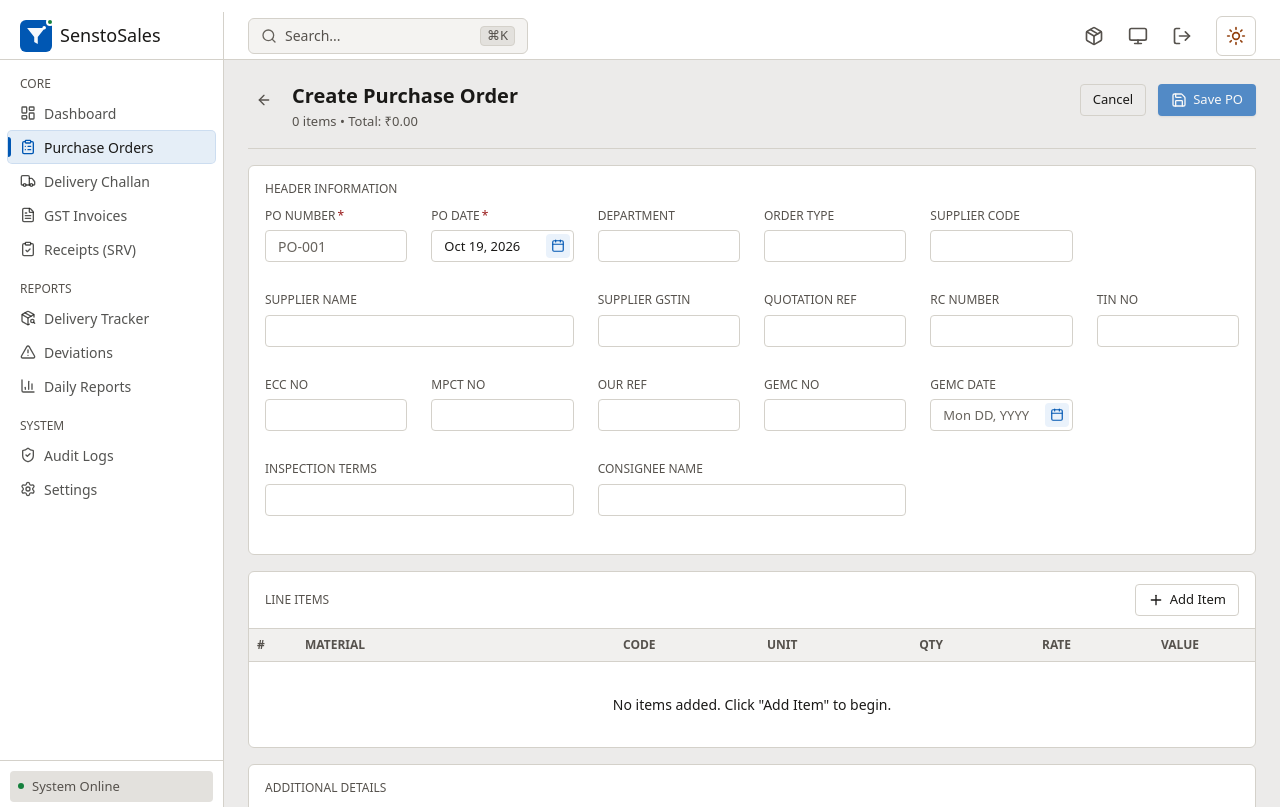
Test: /po/create (SPEC-16 PR 3) › shows the legacy message for an incomplete item and sends nothing
The width and height of the screenshot is (1280, 807).
Step 1. Type "4100000101" into the field labelled "PO Number*" → [336, 246], box [265, 230, 407, 262]
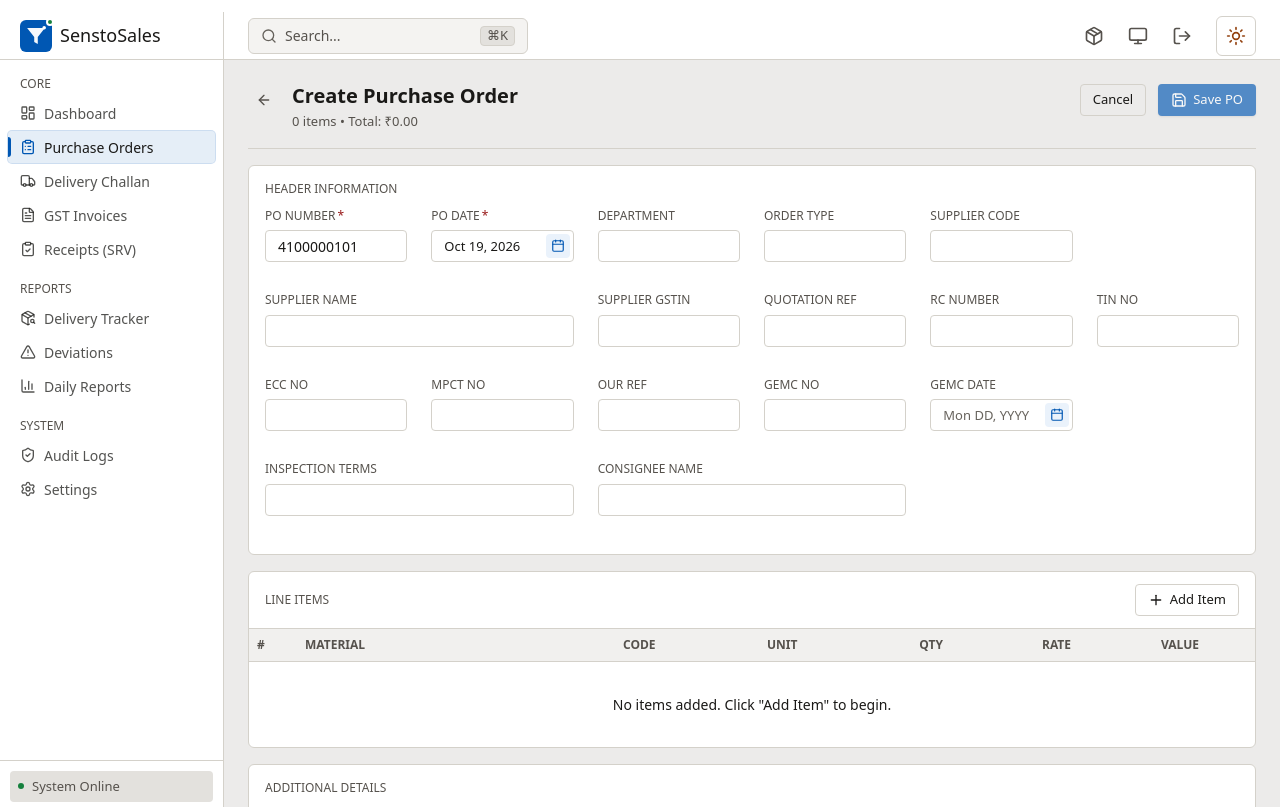
Step 2. Click the button "Add Item" → [1187, 600], box [1135, 584, 1239, 616]
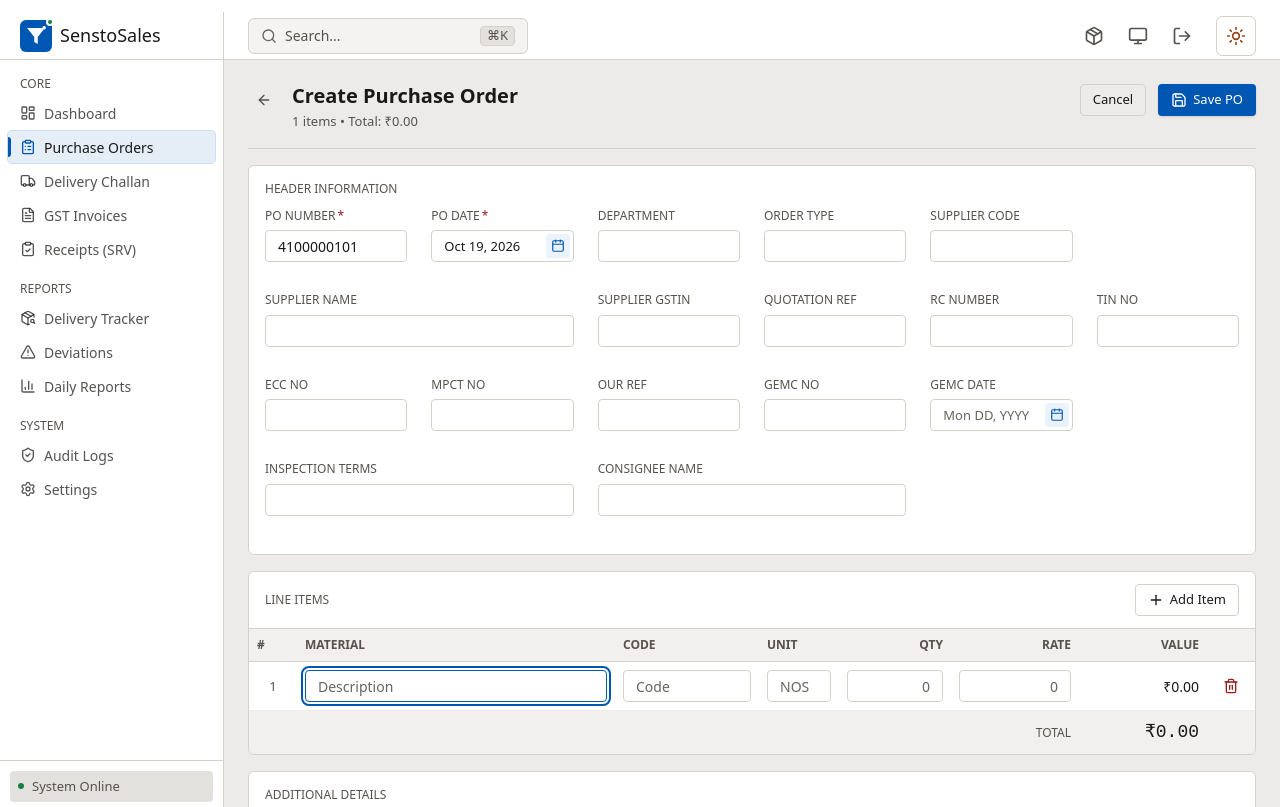
Step 3. Click the button "Save PO" → [1207, 100], box [1158, 84, 1256, 116]
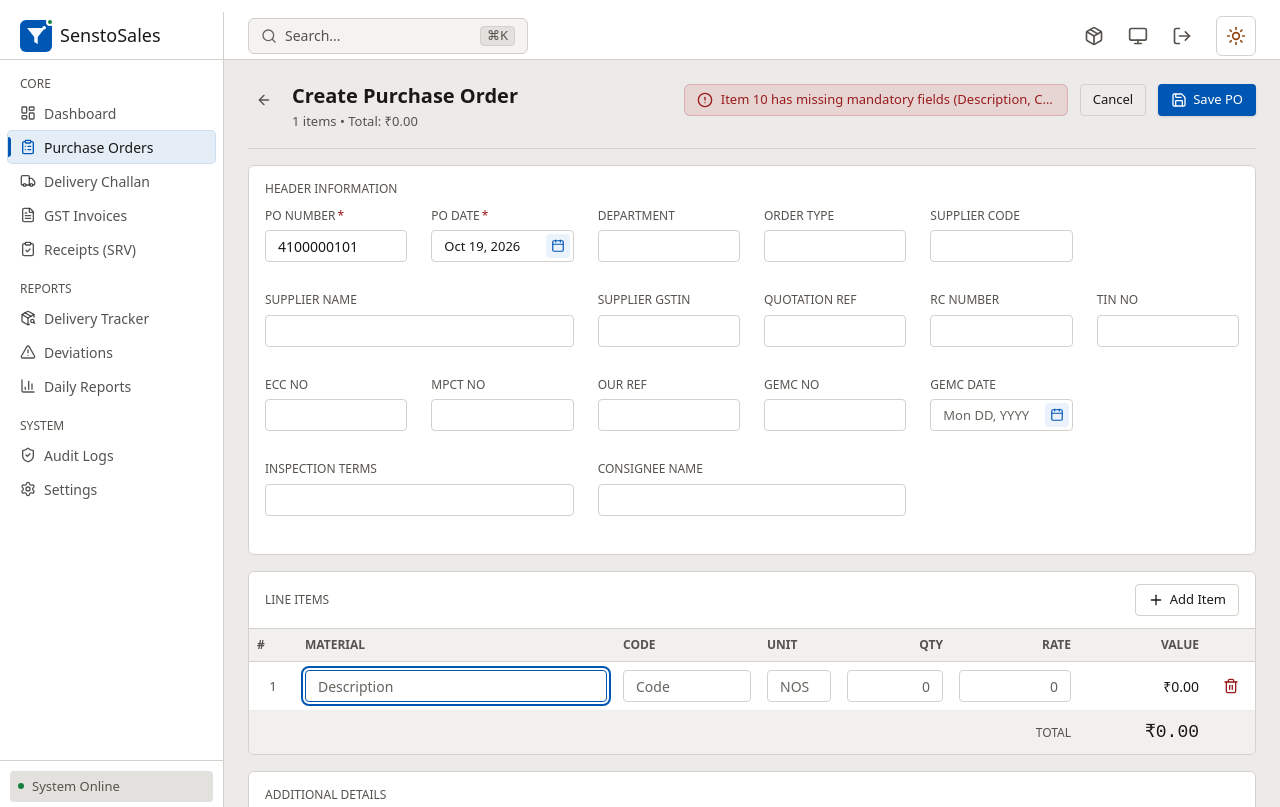
Check: the message reads "Item 10 has missing mandatory fields (Description, Code, Unit, Qty, Rate)", box [721, 90, 1164, 108]
